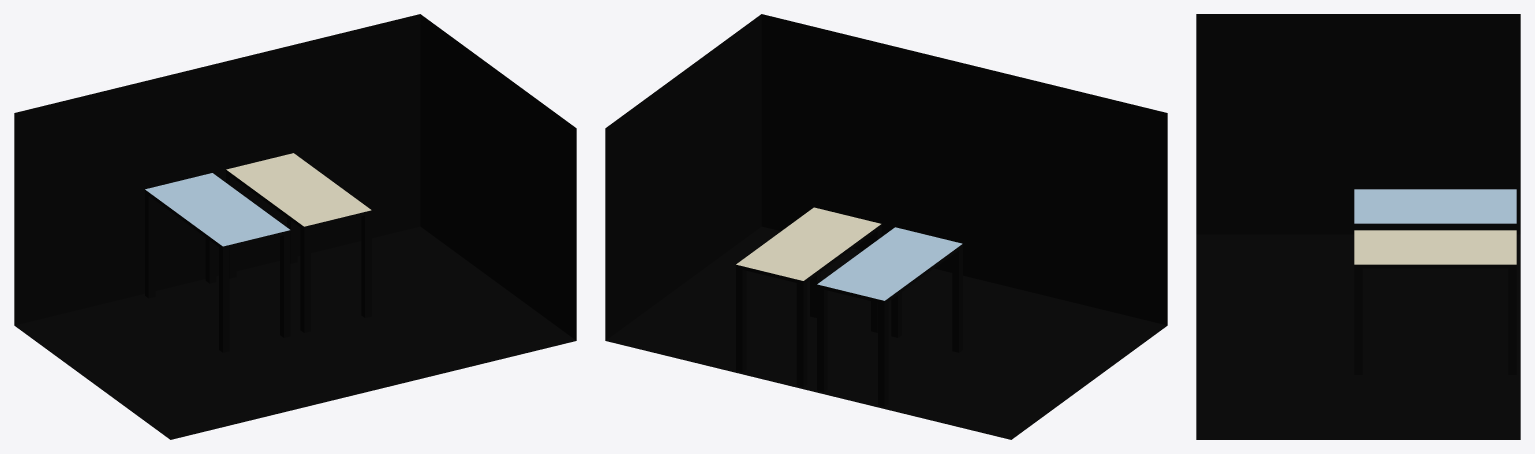
Rendered from Test-Office-v0.4.gltf.
3 renders of one model, left to right at view 1: azimuth 30°, elevation 25°; view 2: azimuth 150°, elevation 25°; view 3: azimuth 270°, elevation 25°, orthographic. The views are drawn at different scales.
Visible parts, largest first — view 1: Wall1, Floor, Wall3, Table2, Table1; view 2: Wall2, Floor, Wall3, Table2, Table1; view 3: Wall4, Floor, Table1, Table2.
Part boxes in pixels (box(x1,y1,x2,y2)): Wall1: box(14, 14, 420, 325); Floor: box(14, 226, 576, 439); Wall3: box(420, 14, 576, 340); Table2: box(145, 173, 290, 352); Table1: box(226, 153, 371, 332); Wall2: box(761, 14, 1167, 325); Floor: box(605, 226, 1167, 439); Wall3: box(605, 14, 761, 340); Table2: box(817, 227, 962, 406); Table1: box(736, 207, 881, 387); Wall4: box(1196, 14, 1520, 234); Floor: box(1196, 234, 1520, 439); Table1: box(1354, 230, 1516, 374); Table2: box(1354, 189, 1516, 230).
Size of the model in its own units: 6 by 3 by 4.
